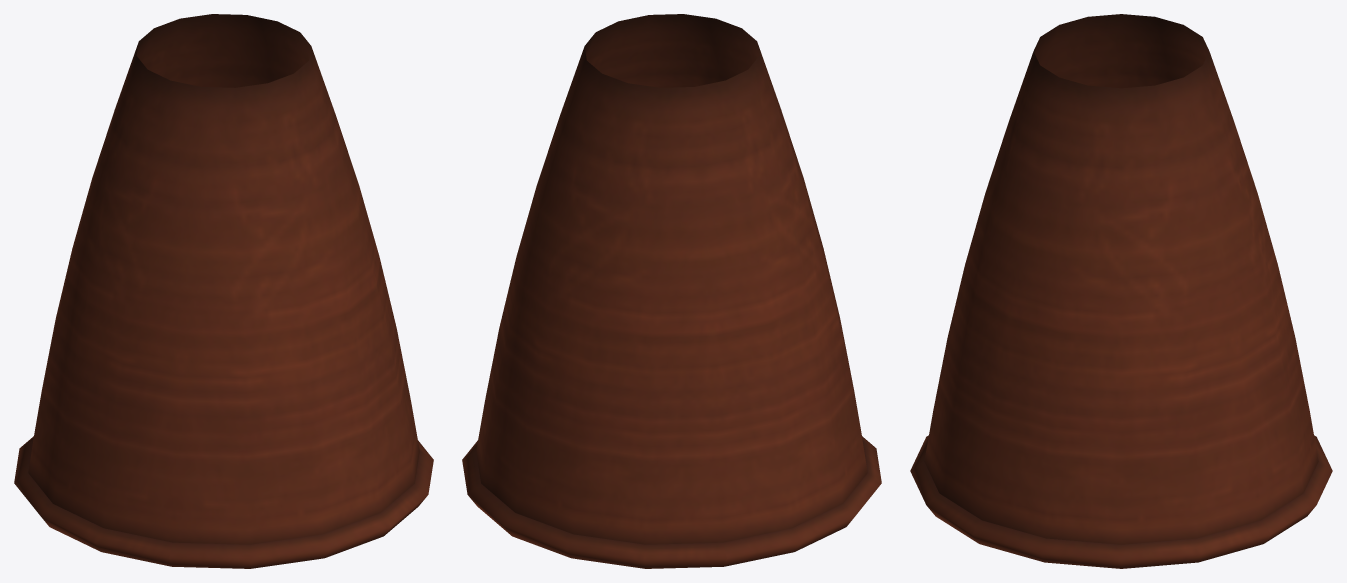
File: blue_lagoon_srm_s0_1_nozzle.obj
3 renders of one model, left to right at view 1: azimuth 30°, elevation 25°; view 2: azimuth 150°, elevation 25°; view 3: azimuth 270°, elevation 25°, orthographic.
Parts seen in each view (by area): view 1: nozzle1; view 2: nozzle1; view 3: nozzle1.
Boxes of the visible parts, x1,y1,x2,y2 form: nozzle1: (14,14,433,568); nozzle1: (462,14,881,568); nozzle1: (910,14,1332,568).
Size of the model in its own units: 0.4203 by 0.475 by 0.4203.
1 material, 1 textured.
